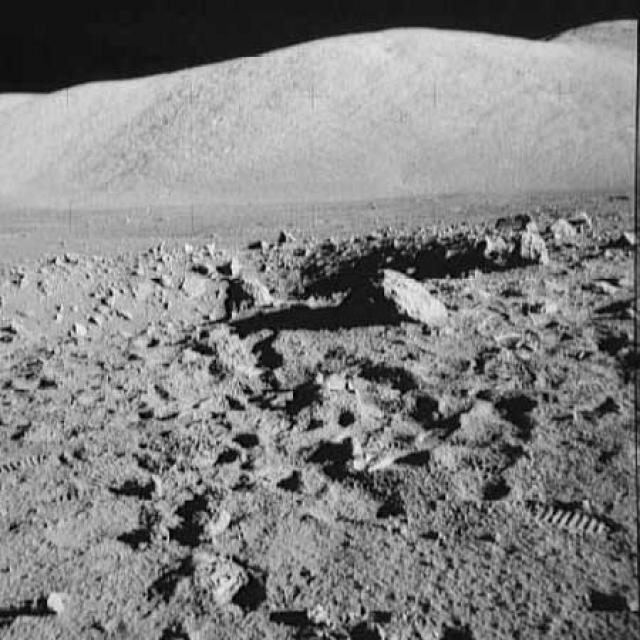crater: (0, 230, 515, 333)
rock: (344, 268, 452, 333), (468, 219, 510, 277), (515, 211, 549, 269), (35, 582, 73, 618), (548, 218, 578, 252), (612, 226, 639, 250), (573, 203, 596, 227)
